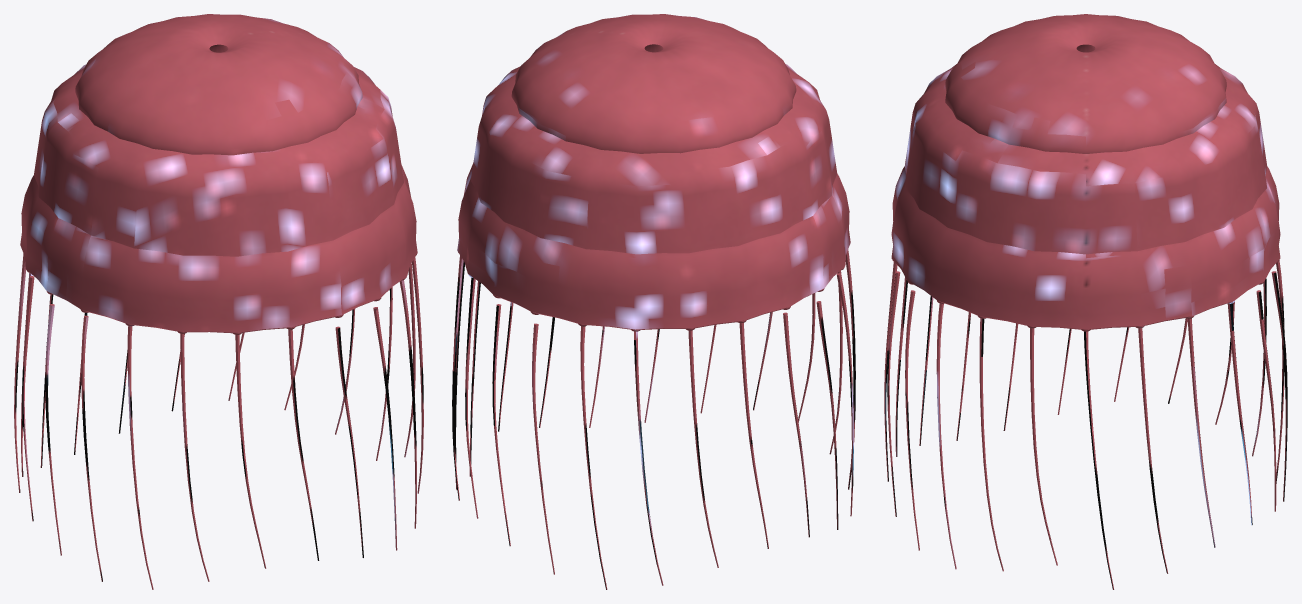
File: atolla_wyvillei.glb
3 renders of one model, left to right at view 1: azimuth 30°, elevation 25°; view 2: azimuth 150°, elevation 25°; view 3: azimuth 270°, elevation 25°, orthographic.
Parts seen in each view (by area): view 1: atolla_wyvillei; view 2: atolla_wyvillei; view 3: atolla_wyvillei.
Part boxes in pixels (box(x1,y1,x2,y2)): atolla_wyvillei: box(14, 14, 423, 589); atolla_wyvillei: box(452, 14, 855, 589); atolla_wyvillei: box(884, 14, 1287, 589).
Bounding box in the file's own units: 0.5214 × 0.6642 × 0.5201.
Materials: 2 (2 with a texture image).
